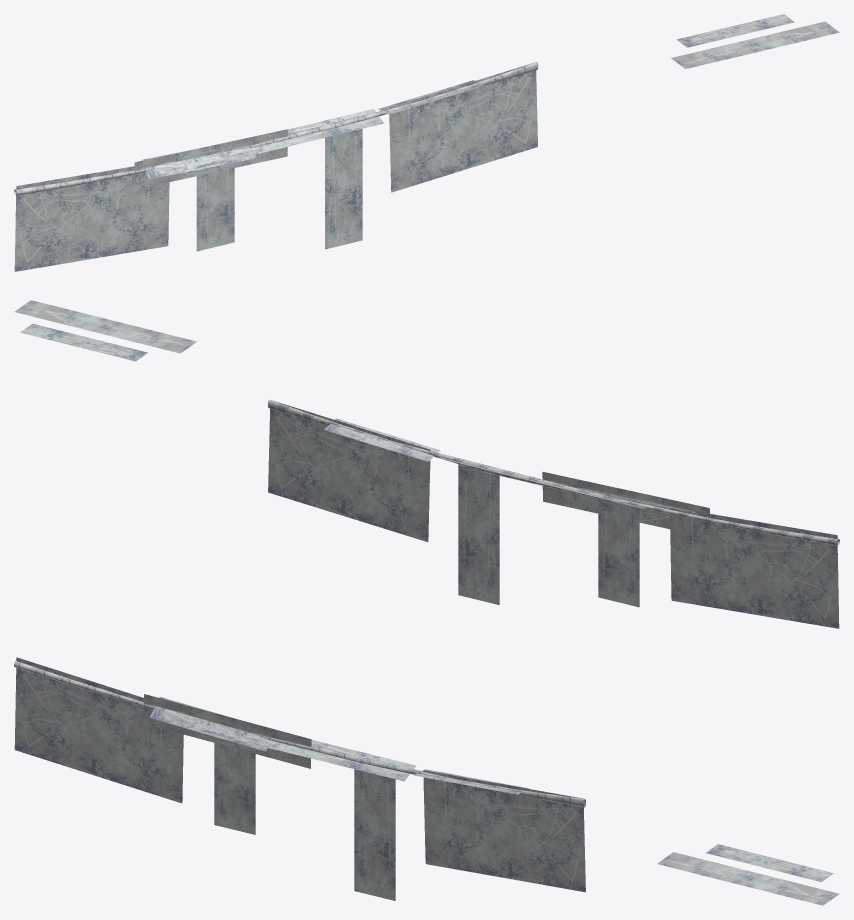
File: SpiderWeb1.fbx
The picture shows the model from 3 angles, top to bottom: view 1: azimuth 30°, elevation 25°; view 2: azimuth 150°, elevation 25°; view 3: azimuth 330°, elevation 25°; orthographic projection. The views are drawn at different scales.
Parts seen in each view (by area): view 1: SM_a_005_natagumo_SpiderRope_01a; view 2: SM_a_005_natagumo_SpiderRope_01a; view 3: SM_a_005_natagumo_SpiderRope_01a.
Part boxes in pixels (bbox=[...]): SM_a_005_natagumo_SpiderRope_01a: bbox=[14, 14, 839, 271]; SM_a_005_natagumo_SpiderRope_01a: bbox=[14, 300, 839, 628]; SM_a_005_natagumo_SpiderRope_01a: bbox=[14, 657, 839, 905].
Size of the model in its own units: 986 by 168 by 107.
